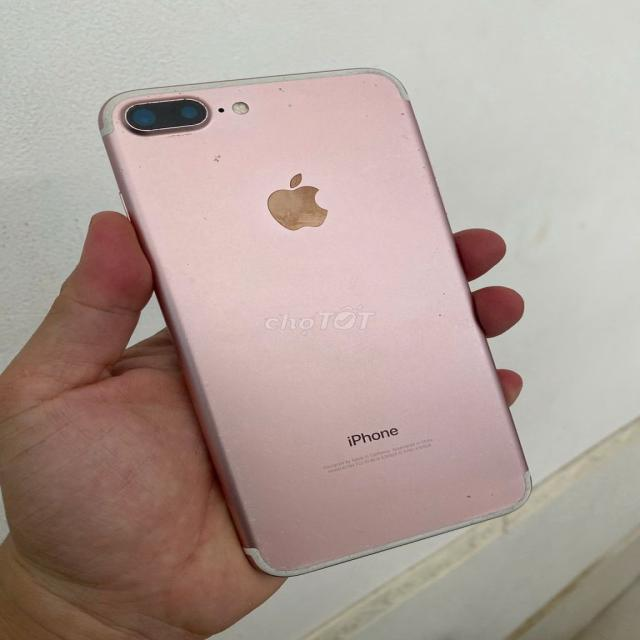gen_7_8: (90, 68, 543, 581)
scratch: (101, 74, 436, 176), (446, 475, 534, 526), (424, 276, 482, 341), (232, 546, 366, 574)
